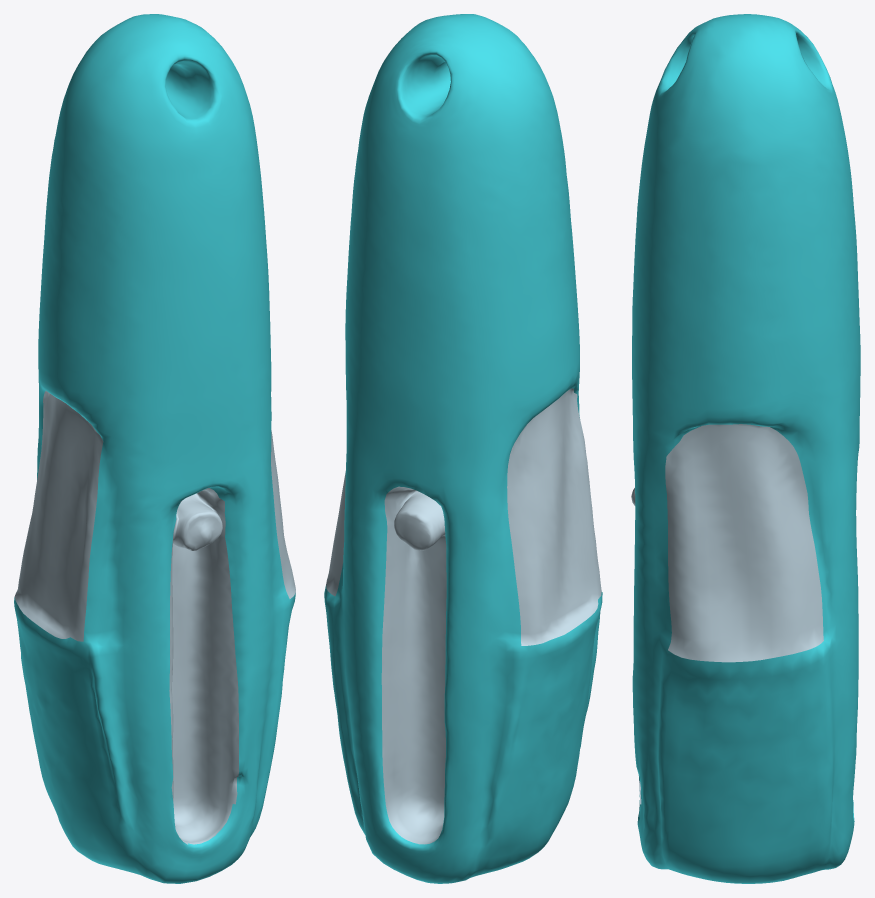
3 views of the same model, side by side, from view 1: azimuth 30°, elevation 25°; view 2: azimuth 150°, elevation 25°; view 3: azimuth 270°, elevation 25° (orthographic). The views are drawn at different scales.
Visible parts, largest first — view 1: Mesh1, Mesh1.003; view 2: Mesh1, Mesh1.003; view 3: Mesh1, Mesh1.003.
Part boxes in pixels (x1,y1,x2,y2): Mesh1: (14, 14, 295, 883); Mesh1.003: (14, 391, 295, 844); Mesh1: (324, 14, 602, 883); Mesh1.003: (326, 388, 601, 844); Mesh1: (632, 14, 860, 883); Mesh1.003: (631, 424, 823, 804).
Bounding box in the file's own units: 1.89 × 6.19 × 1.53.
